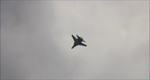maybay_muctieu: (70, 33, 87, 53)
